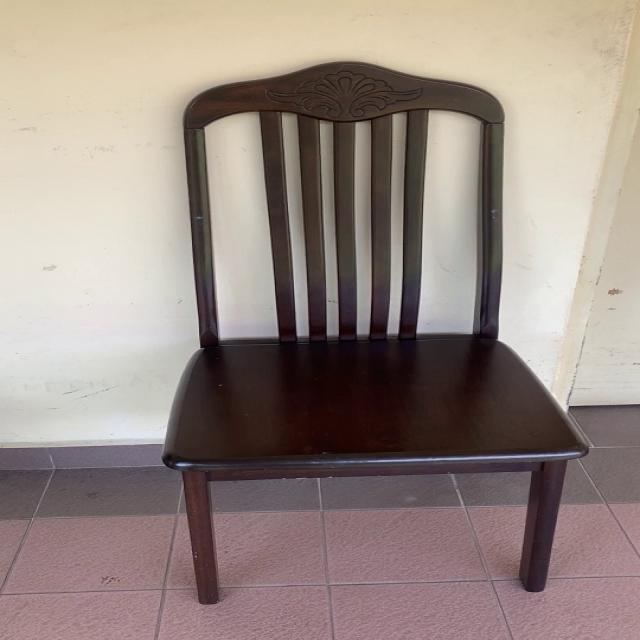Chair: (161, 59, 588, 605)
